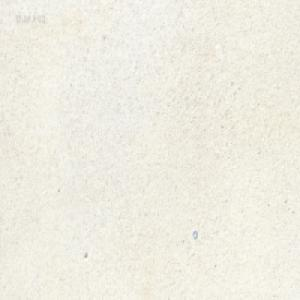Washer: (192, 230, 197, 240)
